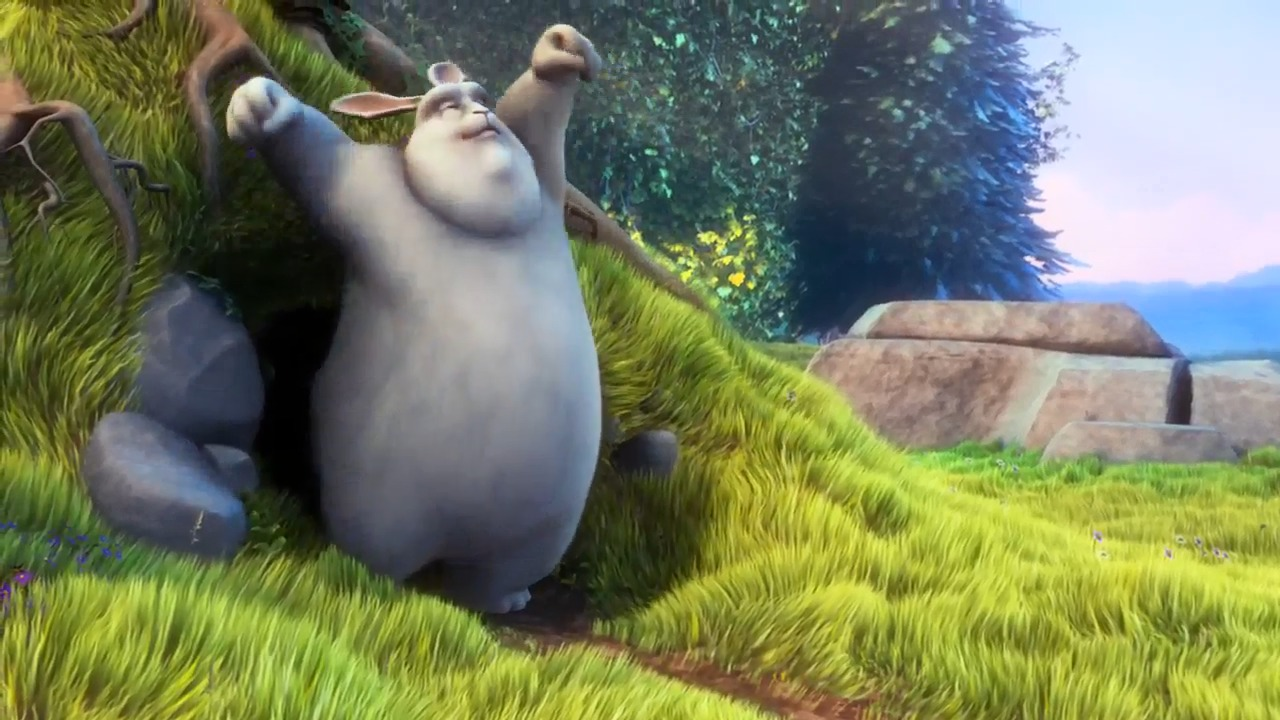person: (611, 248, 1040, 454)
